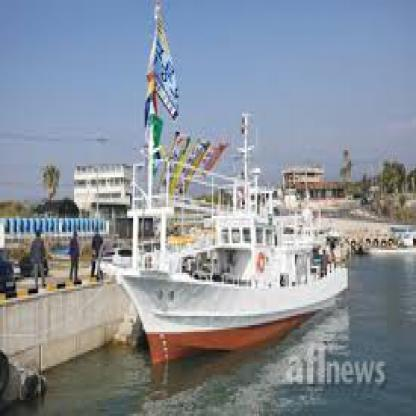fish-b: (92, 209, 356, 375)
